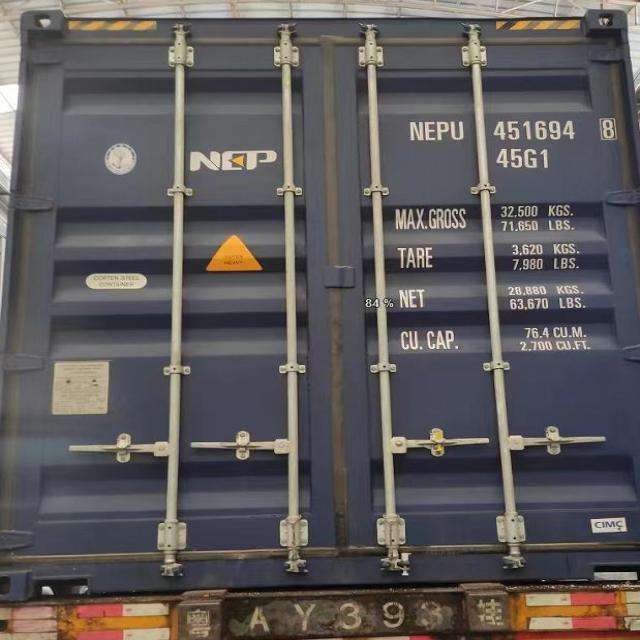ISO: (498, 147, 550, 171)
container_number: (412, 116, 612, 142)
